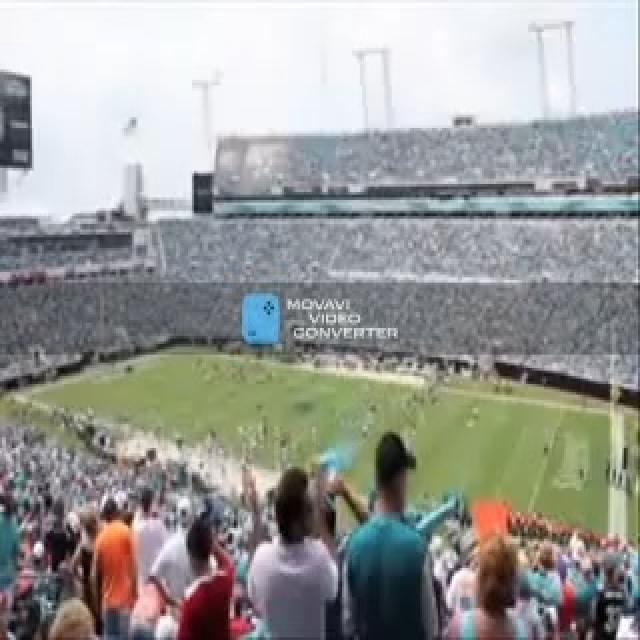non-voilence: (0, 400, 638, 637), (282, 291, 400, 344)
